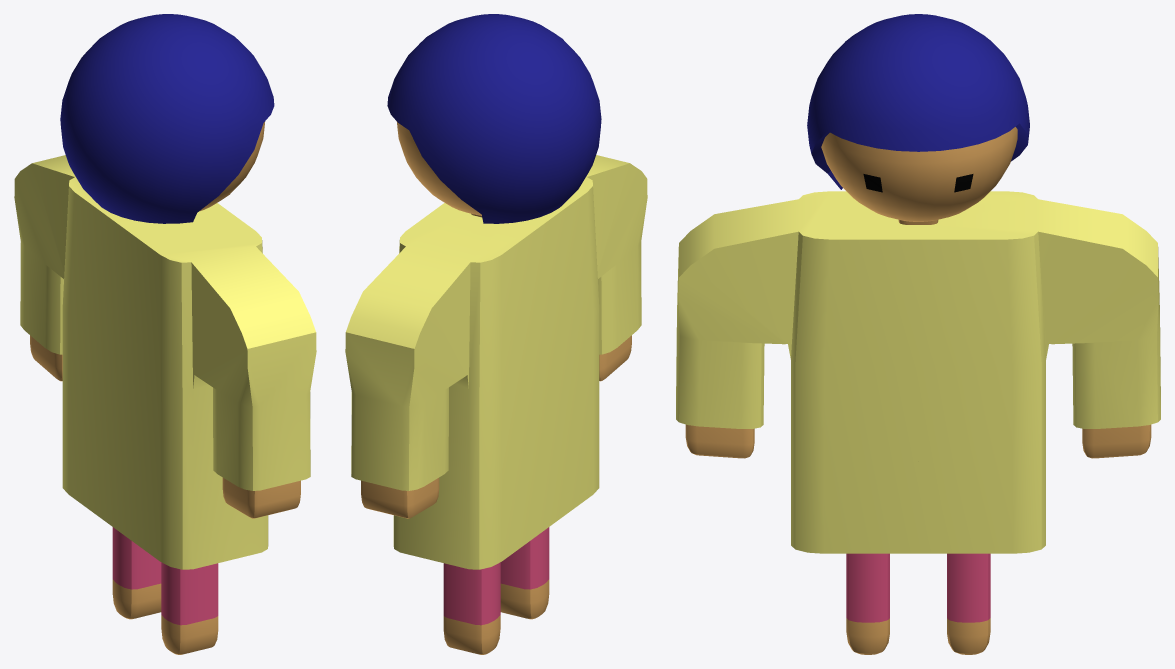
Rendered from Millie.fbx.
3 renders of one model, left to right at view 1: azimuth 30°, elevation 25°; view 2: azimuth 150°, elevation 25°; view 3: azimuth 270°, elevation 25°, orthographic. The views are drawn at different scales.
Visible parts, largest first — view 1: Cube; view 2: Cube; view 3: Cube.
Part boxes in pixels (x1,y1,x2,y2): Cube: (14,14,316,654); Cube: (345,14,647,654); Cube: (676,14,1160,654).
Size of the model in its own units: 54.18 by 169 by 119.
